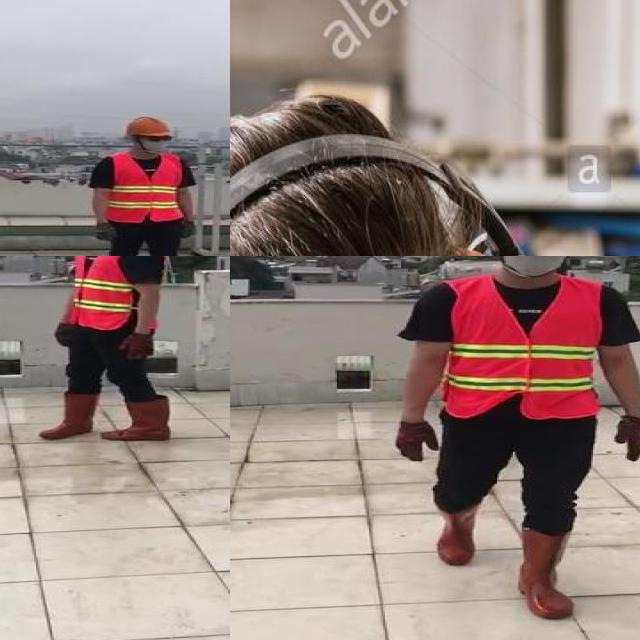Ear-protection: (230, 115, 548, 256)
boots: (520, 527, 577, 620), (100, 395, 171, 442), (428, 505, 481, 565), (40, 392, 96, 442)
face_mask: (501, 256, 572, 276), (137, 134, 172, 154)
glasses: (144, 133, 174, 144)
hand_glove: (394, 421, 438, 461), (614, 416, 640, 463), (118, 331, 158, 360), (93, 224, 116, 241), (177, 220, 198, 237)
head_helmet: (123, 116, 173, 138)
person: (385, 256, 640, 631), (35, 256, 177, 444), (86, 115, 200, 256)
vest: (442, 278, 598, 417), (68, 256, 142, 327), (109, 151, 182, 221)
